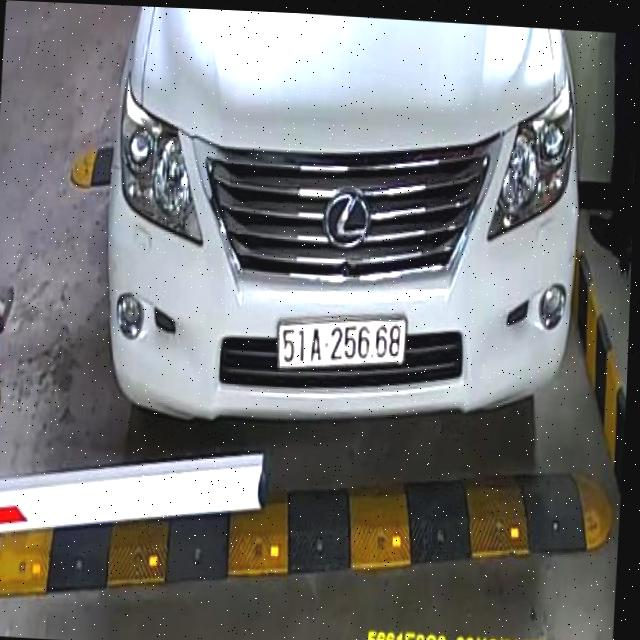car: (90, 5, 595, 482)
plate: (271, 310, 413, 375)
